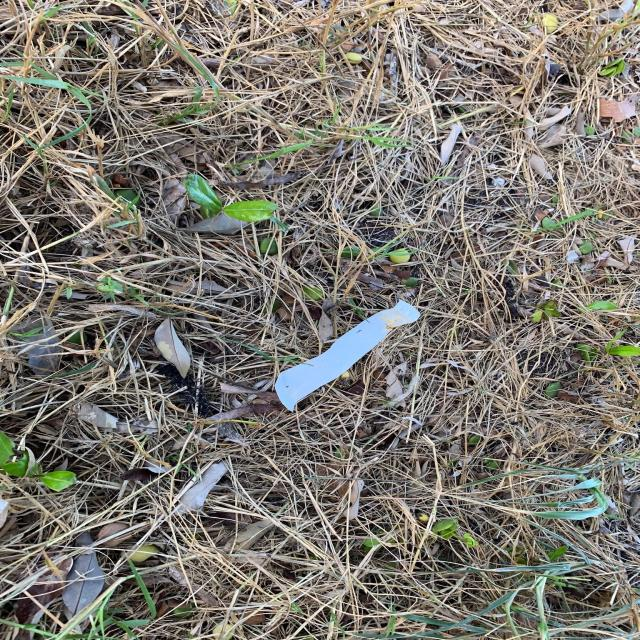litter: (271, 300, 425, 416)
